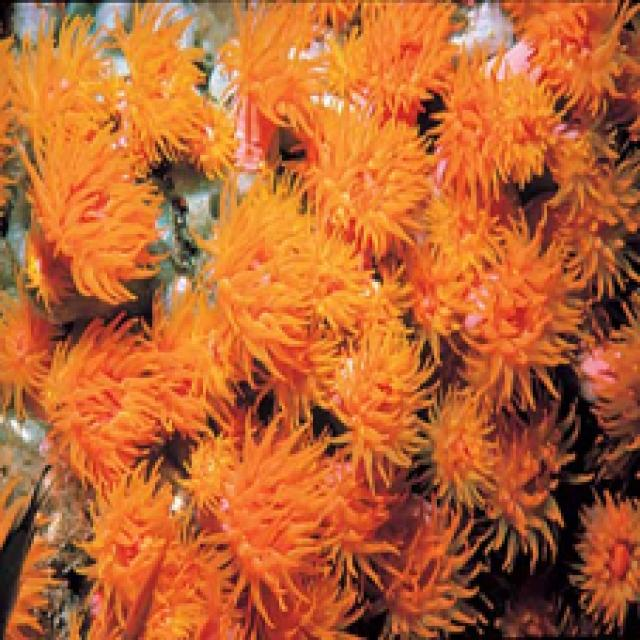Healthy: (198, 181, 362, 368), (184, 421, 337, 582), (24, 128, 162, 300), (291, 108, 430, 258), (43, 322, 170, 477), (88, 480, 207, 638), (322, 317, 430, 472), (463, 249, 571, 393), (438, 69, 559, 196), (506, 1, 638, 114), (379, 494, 472, 635), (1, 24, 117, 134), (148, 291, 246, 418), (413, 201, 506, 334), (545, 156, 638, 280), (348, 4, 455, 111), (494, 421, 571, 556), (117, 86, 232, 176), (571, 494, 638, 624), (108, 4, 201, 91), (582, 311, 638, 452), (218, 4, 317, 83), (432, 390, 494, 506), (246, 571, 353, 638), (1, 297, 57, 410), (1, 238, 15, 286)
